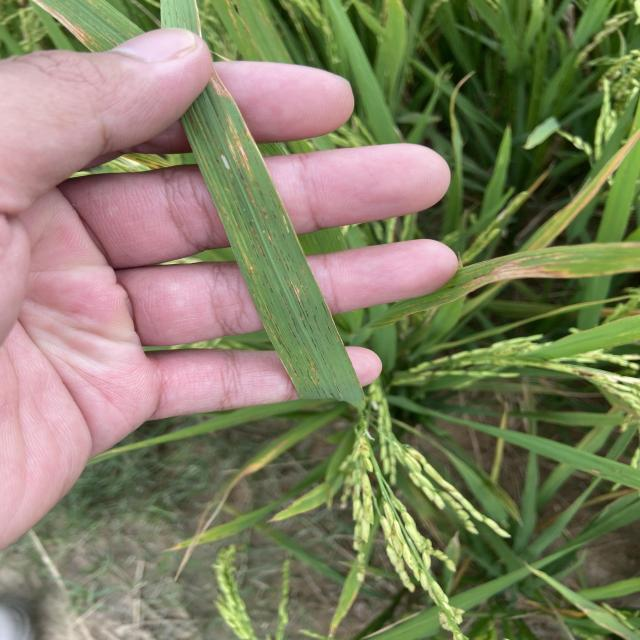Dom soc vi khuan: (197, 150, 265, 303), (223, 132, 281, 261), (224, 115, 265, 204), (265, 307, 302, 366), (205, 123, 234, 179), (250, 222, 270, 266), (281, 297, 300, 334), (283, 355, 301, 383), (302, 341, 318, 370), (305, 359, 321, 385), (290, 280, 302, 303), (298, 277, 308, 299), (261, 208, 272, 226), (313, 315, 322, 333), (299, 313, 306, 328), (283, 258, 289, 271)
